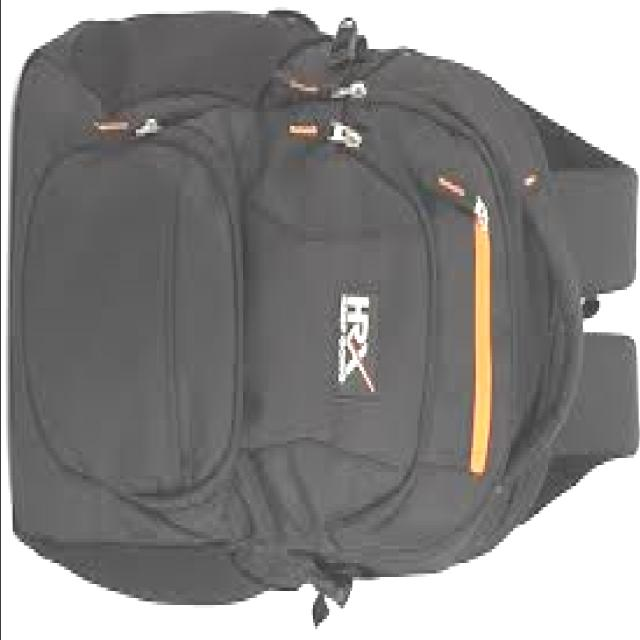backpack: (11, 8, 640, 627)
